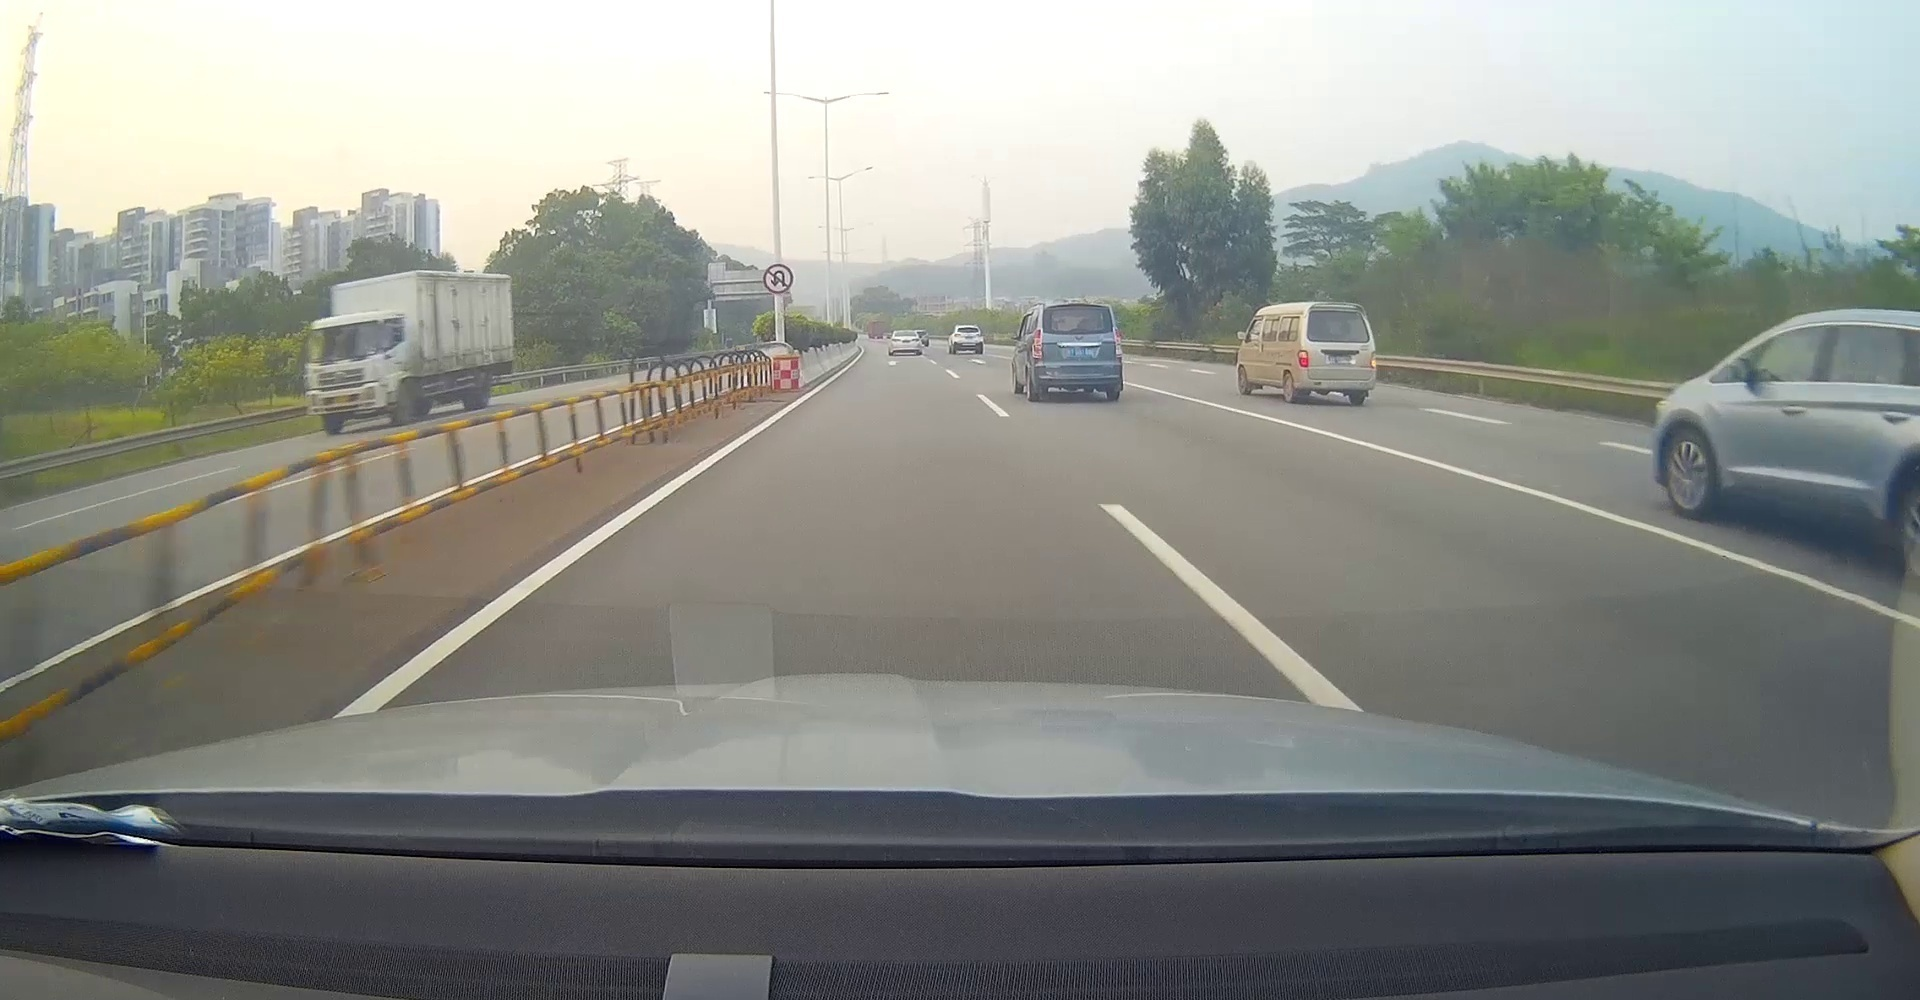L_light: (1032, 329, 1043, 359), (1298, 352, 1309, 367)
R_light: (1114, 327, 1123, 359), (1371, 352, 1377, 367)
T_light: (1070, 327, 1086, 332), (1330, 310, 1349, 313)
day-brake: (1295, 299, 1379, 405)
day-no: (1029, 299, 1124, 402)
